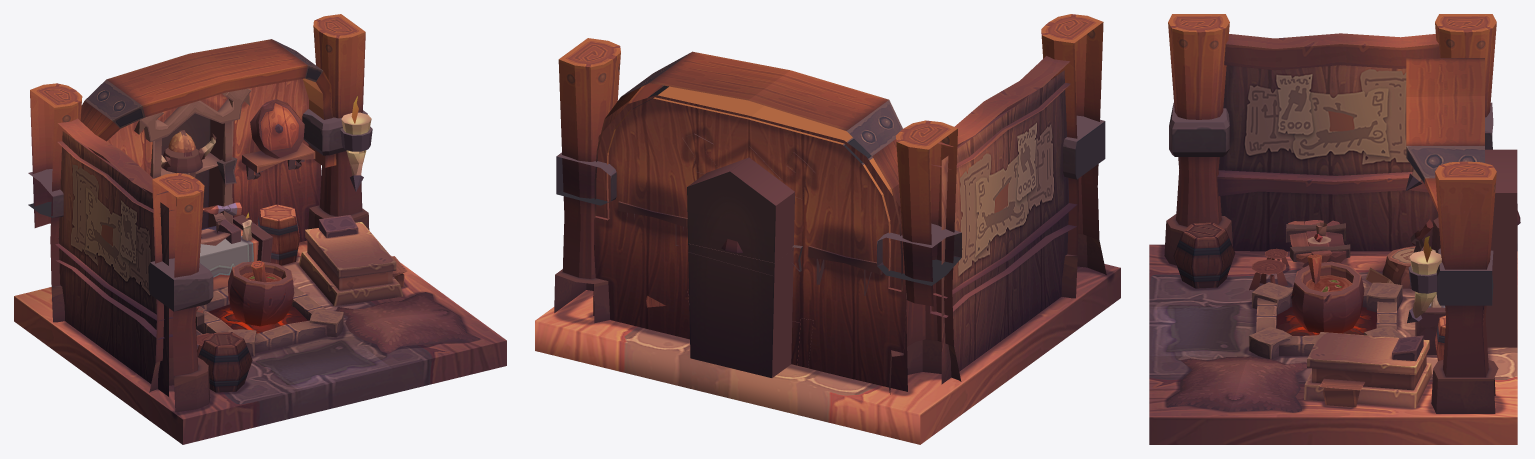
File: vikingroom.fbx
3 views of the same model, side by side, from view 1: azimuth 30°, elevation 25°; view 2: azimuth 150°, elevation 25°; view 3: azimuth 270°, elevation 25° (orthographic). The views are drawn at different scales.
Visible parts, largest first — view 1: mesh_all1; view 2: mesh_all1; view 3: mesh_all1.
Boxes of the visible parts, left/top/right/bottom form: mesh_all1: left=14, top=14, right=506, bottom=444; mesh_all1: left=535, top=14, right=1120, bottom=444; mesh_all1: left=1149, top=14, right=1520, bottom=444.
Bounding box in the file's own units: 2.5 × 1.77 × 2.28.
1 material, 1 textured.
